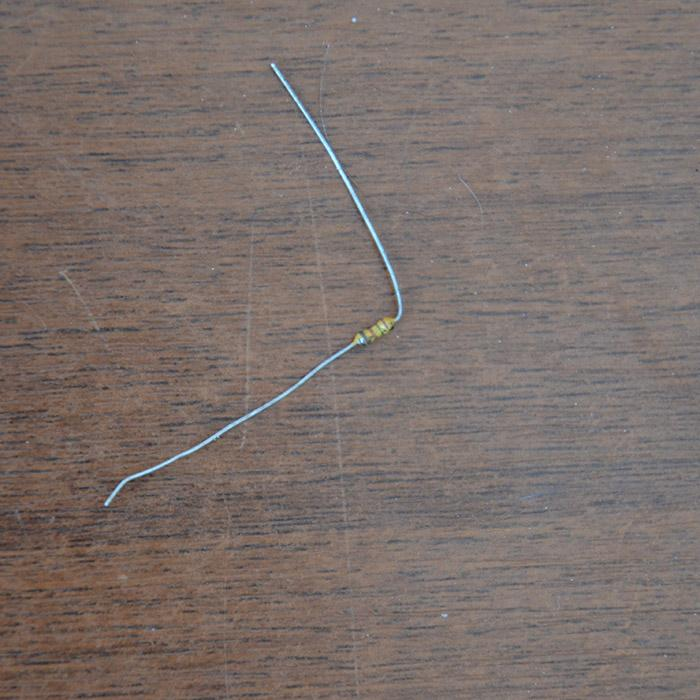resistor: (349, 314, 395, 349)
